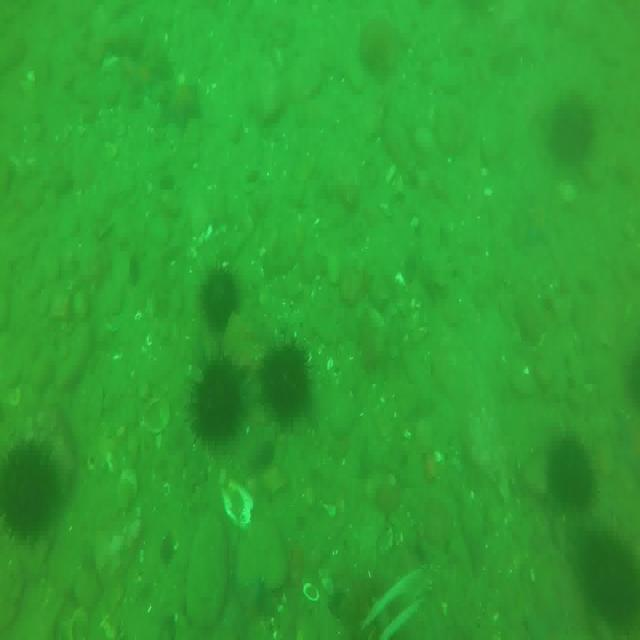echinus: (572, 532, 640, 629), (0, 438, 59, 544), (183, 356, 242, 448), (261, 338, 309, 426), (542, 429, 590, 513), (547, 93, 593, 167), (356, 15, 398, 72), (199, 268, 236, 322)
scallop: (219, 480, 254, 528), (138, 398, 171, 435), (304, 578, 319, 602)
starfish: (158, 79, 205, 134)
